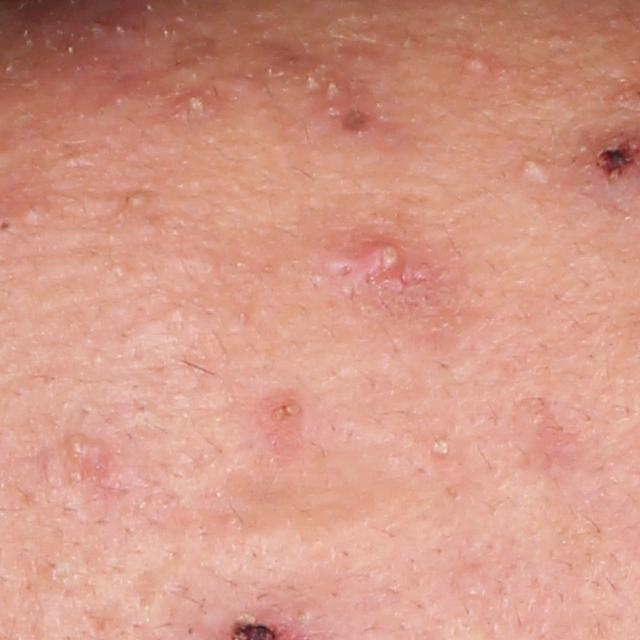comedo: (509, 154, 553, 181), (57, 430, 91, 464), (124, 186, 148, 216)
papule: (255, 393, 309, 445)
pustule: (340, 234, 422, 309), (165, 80, 219, 132), (425, 429, 459, 467)
